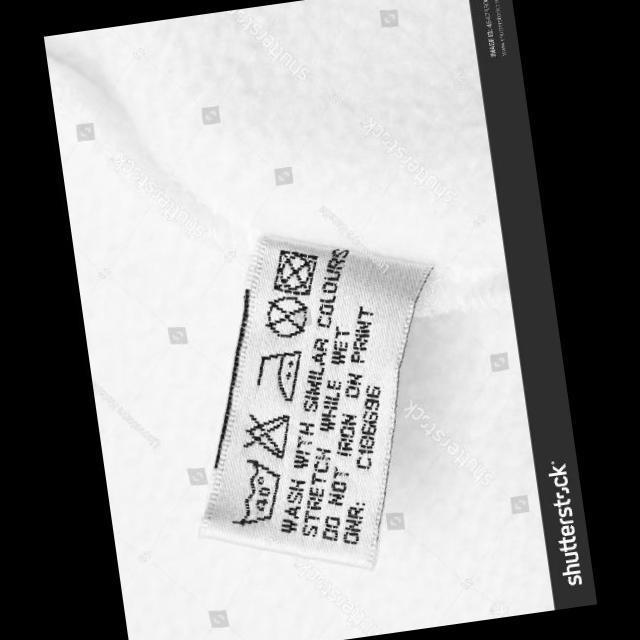40C: (220, 450, 290, 530)
DN_bleach: (234, 403, 298, 466)
DN_dry_clean: (258, 288, 314, 342)
DN_tumble_dry: (262, 242, 326, 302)
iron_medium: (248, 342, 310, 409)
